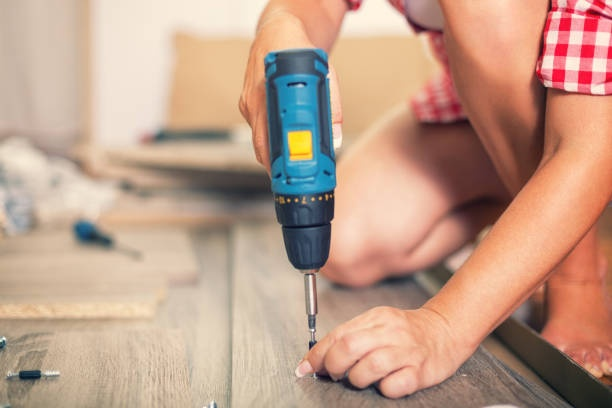driller: (261, 46, 338, 331)
